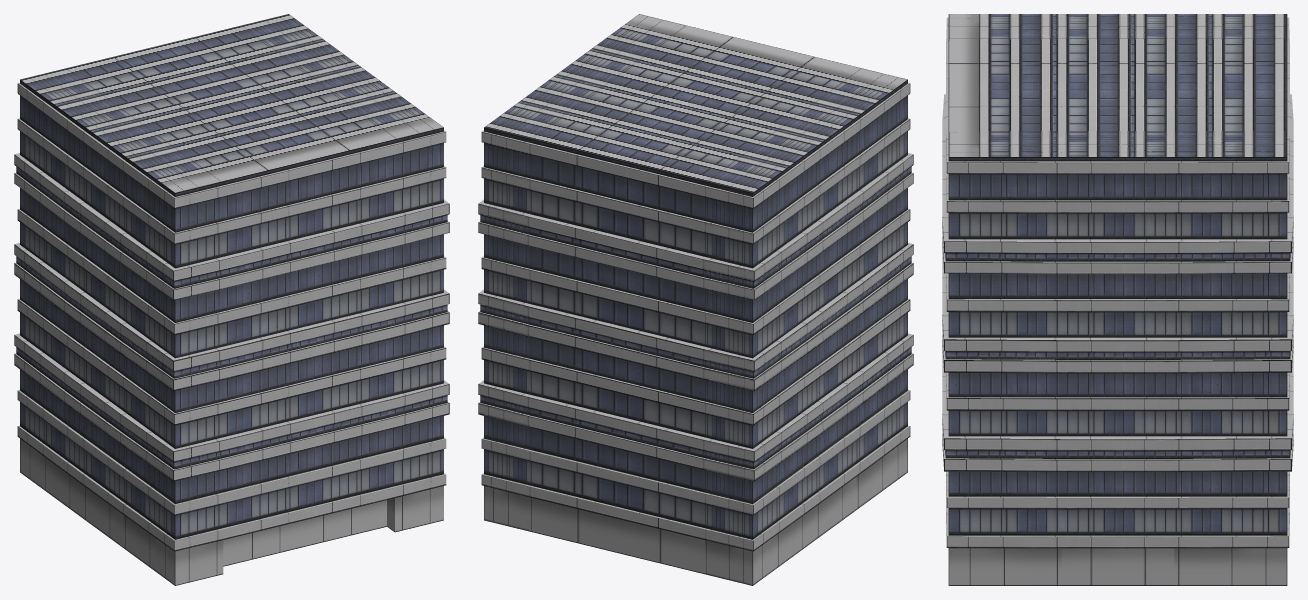
The model's file is Bench_01.FBX.
3 renders of one model, left to right at view 1: azimuth 30°, elevation 25°; view 2: azimuth 150°, elevation 25°; view 3: azimuth 270°, elevation 25°, orthographic. The views are drawn at different scales.
Parts seen in each view (by area): view 1: Box107; view 2: Box107; view 3: Box107.
Boxes of the visible parts, x1=… form: Box107: x1=14, y1=14, x2=449, y2=585; Box107: x1=478, y1=14, x2=913, y2=585; Box107: x1=942, y1=14, x2=1293, y2=585.
Bounding box in the file's own units: 41.5 × 55.88 × 41.5.
